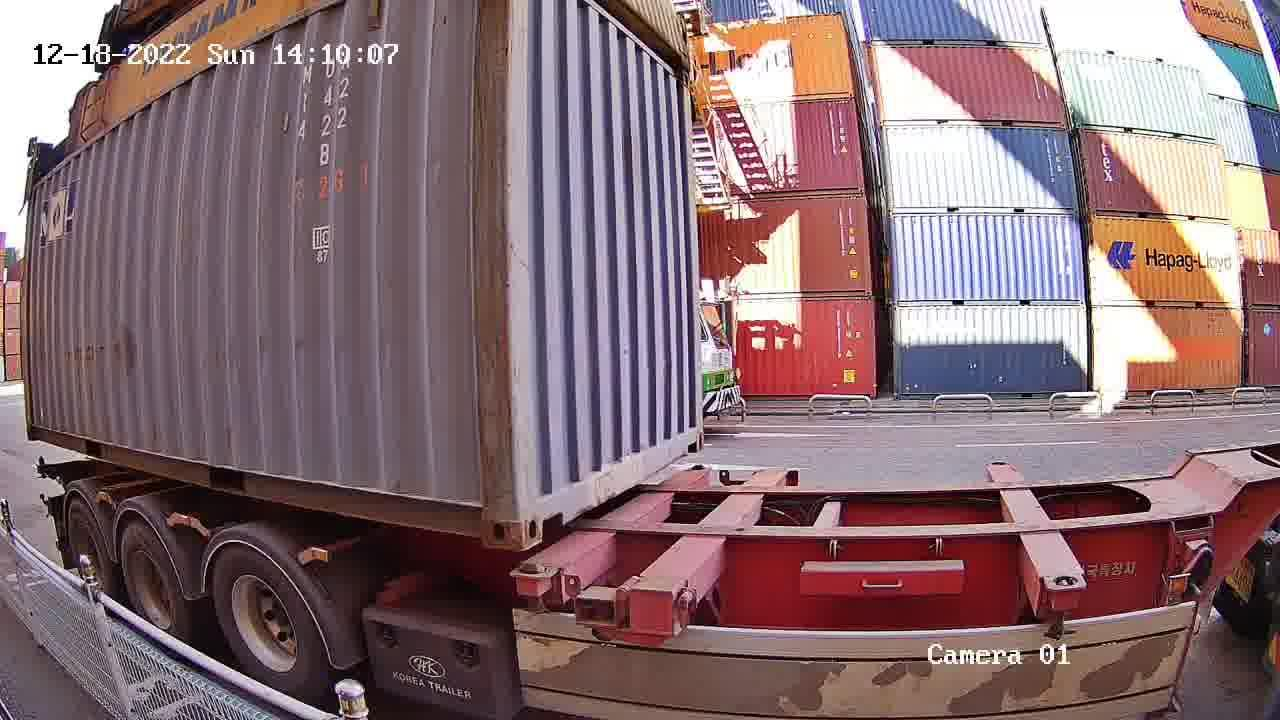Chassis: (512, 467, 712, 608), (631, 471, 787, 629)
Cone: (626, 581, 686, 649), (513, 560, 557, 612)
Hole_L: (517, 458, 566, 553)
Hole_R: (450, 465, 518, 549), (671, 402, 705, 463)
Tire: (211, 547, 320, 692), (119, 526, 186, 633), (68, 503, 108, 585)
